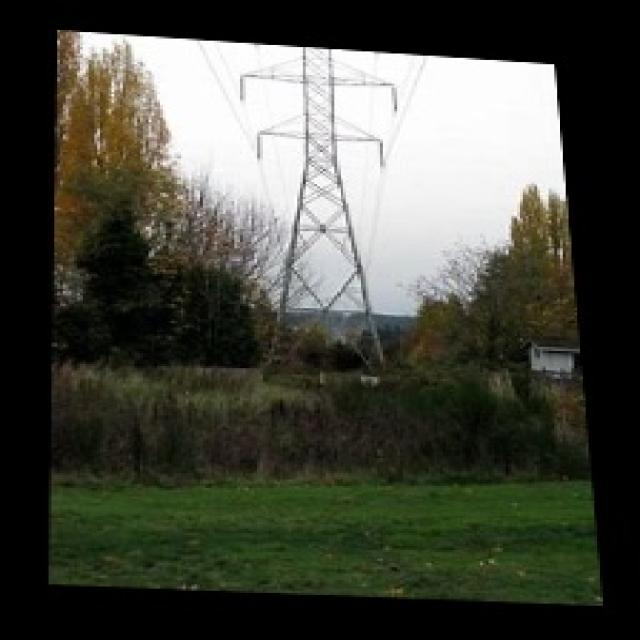utility poles: (324, 197, 502, 401), (163, 177, 305, 378)
